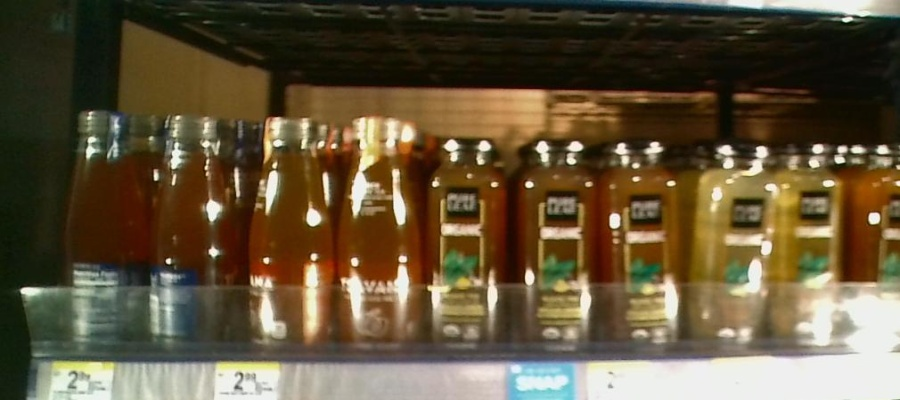bottle: (244, 116, 337, 359), (151, 114, 238, 361), (341, 112, 425, 360), (66, 106, 146, 358), (428, 135, 513, 356), (601, 137, 686, 358), (517, 132, 599, 358), (691, 140, 777, 353), (781, 137, 848, 352), (854, 137, 900, 353)
